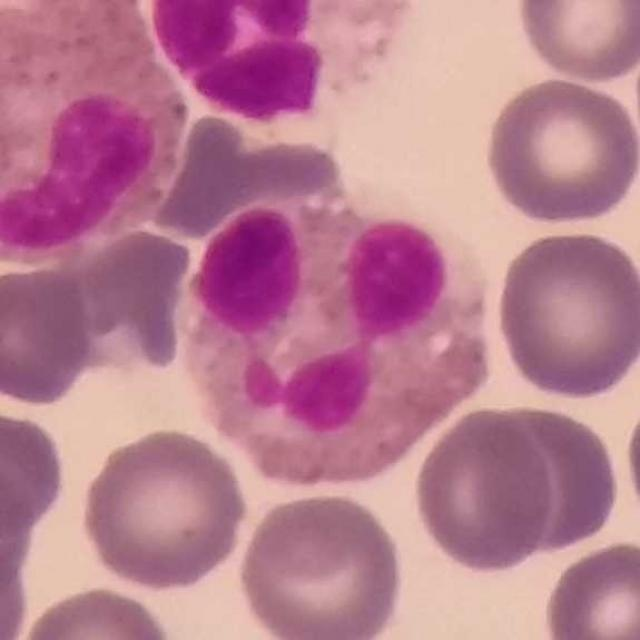eosino: (185, 192, 494, 488)
